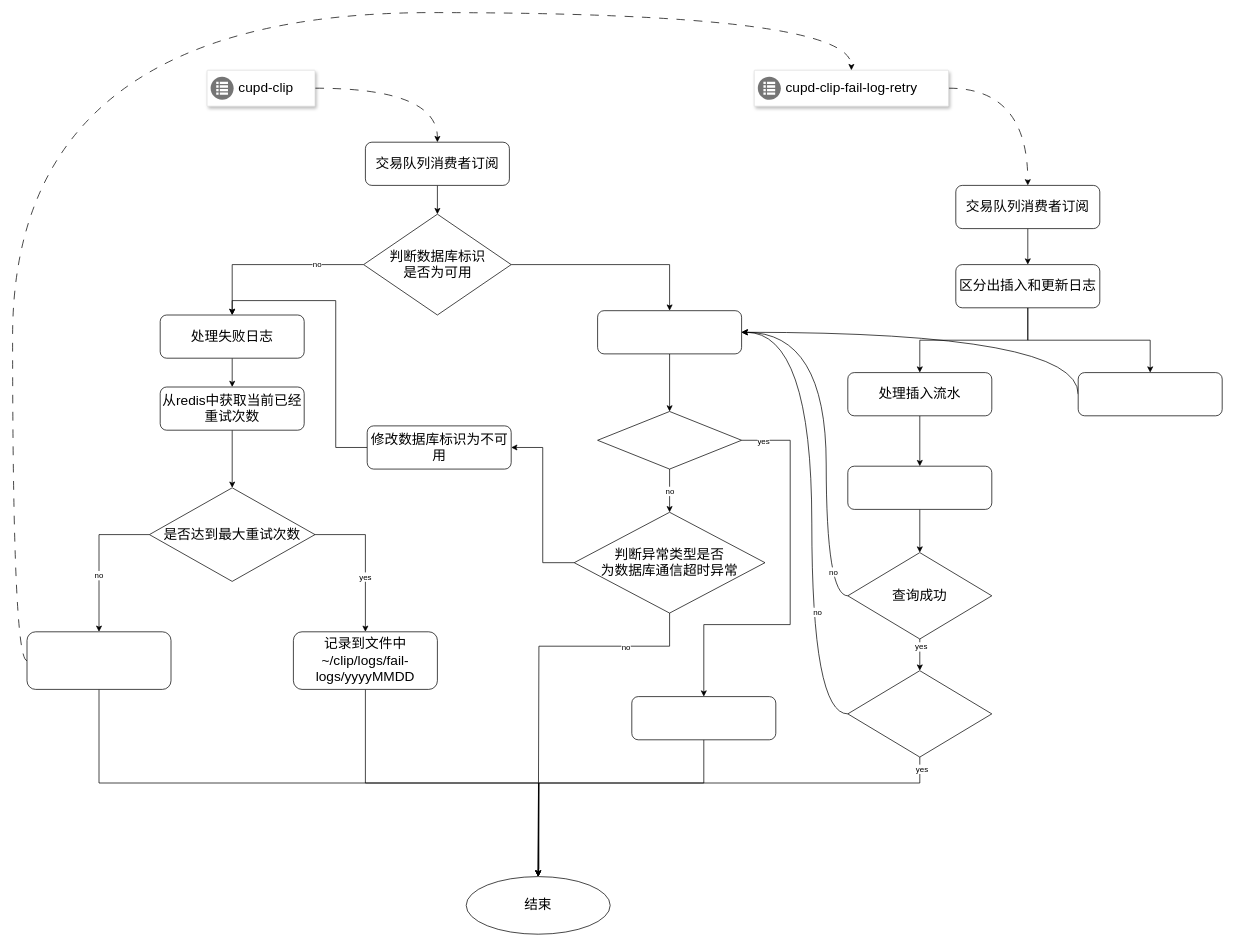
Some shapes in this 1235 by 947 pixel diagram are drawn without their labels. The shapes that lost their labels are listed below. From the top down, each one's centre as x and y in pixels, then its label:
[669,332]: 插入或更新数据库
[1149,394]: 处理更新流水
[669,440]: 操作成功
[919,487]: 查询数据库中是否已经存在
[98,660]: 延迟推送失败日志队列
[703,718]: 修改数据库标识为可用
[919,713]: 数据库已经插入 该笔交易流水
